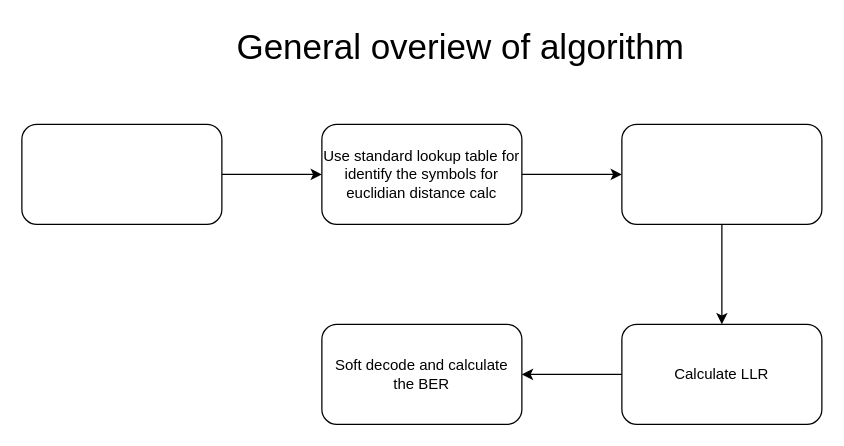
The diagram is 844 pixels wide and 446 high, and some of its shapes have lost their labels. The centre of each missing label's shape, as x and y in pixels:
"Calculate the euclidian distance from symbols found in prev step" goes at (x=721, y=173).
"Estimate row and column of Rx symbol" goes at (x=121, y=173).
